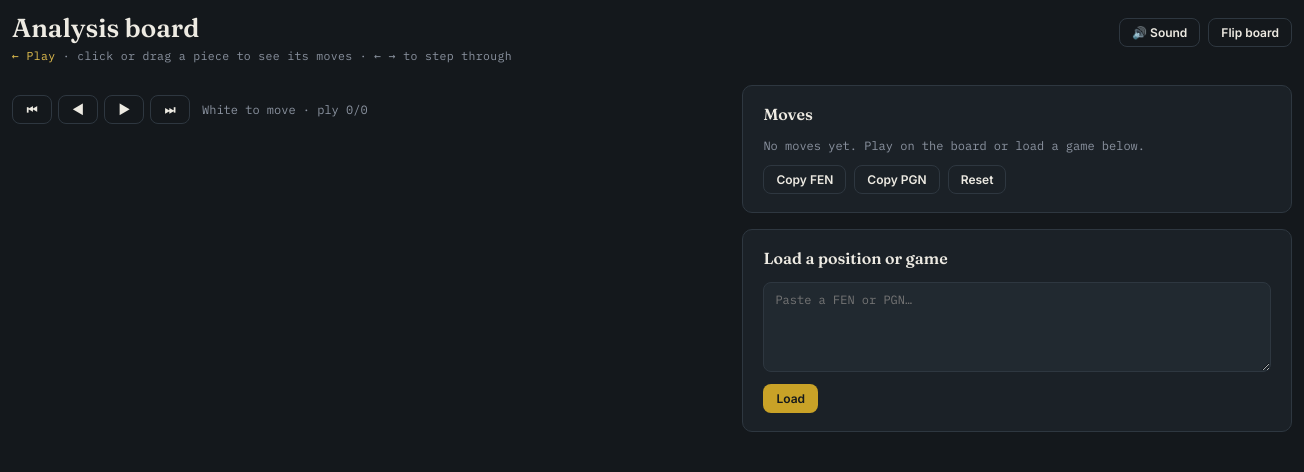
it: AnalysisBoard › rejects junk in the loader
Type "not a chess anything" into the text box with placeholder "Paste a FEN or PGN…" at (1017, 327), box [763, 282, 1271, 372]
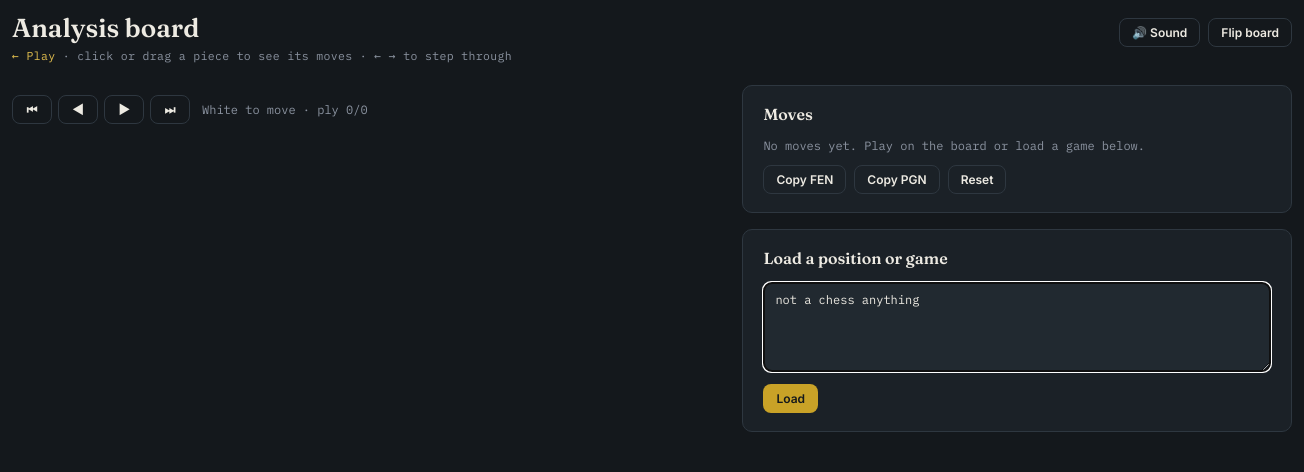
Click the button "Load" at (791, 398), box [763, 384, 818, 413]
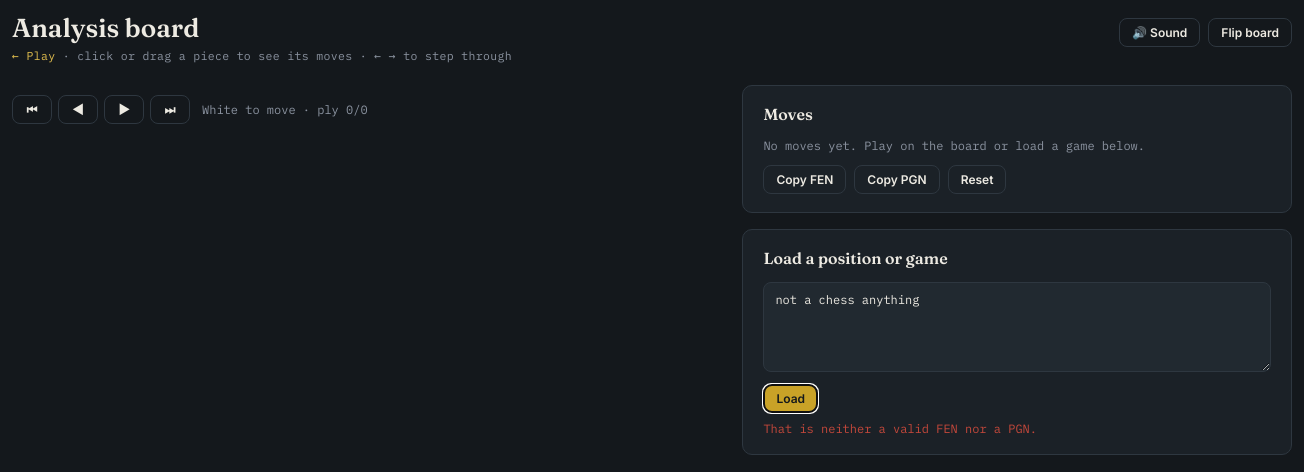
Expected: the text "That is neither a valid FEN nor a PGN." is shown, [763, 421, 1037, 436]
